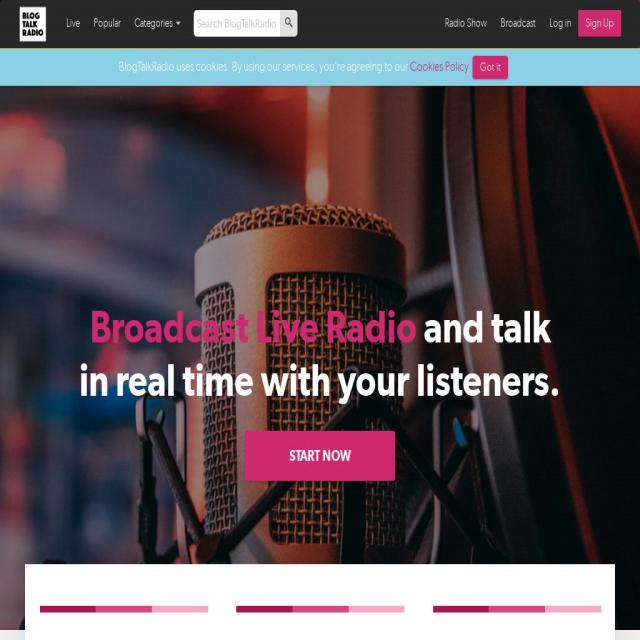login-option: (549, 12, 576, 35)
navigation-links: (55, 10, 190, 35), (440, 10, 541, 35)
search: (194, 5, 300, 43)
sign-up-option: (578, 10, 624, 37)
